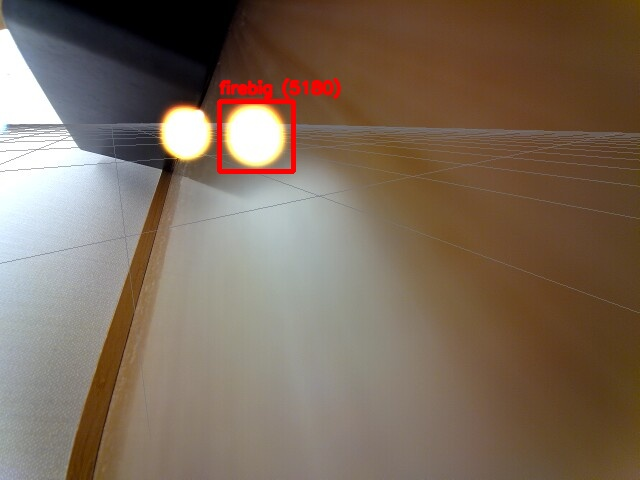firebig: (219, 101, 293, 171)
